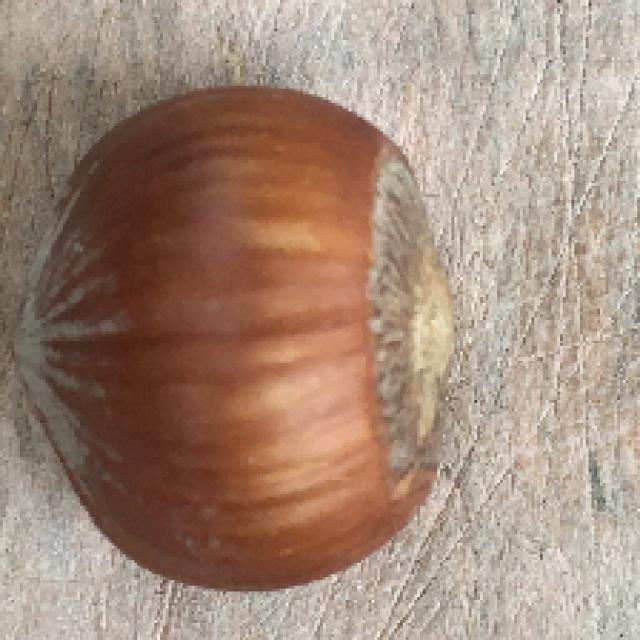damagedHazelnut: (11, 83, 462, 594)
